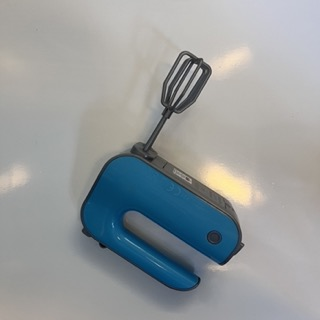mixer: (80, 50, 246, 292)
